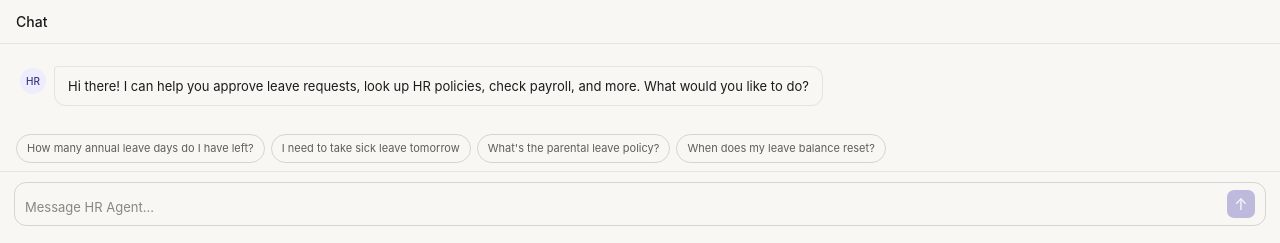
Test: ChatPage › clicking a suggestion populates the textarea
Click the button "How many annual leave days do I have left?": (140, 148) [16,134,265,163]
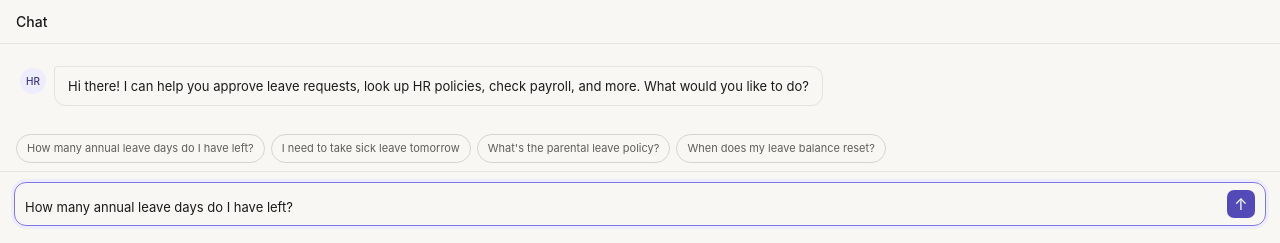
Result: the text box with placeholder "Message HR Agent..." holds "How many annual leave days do I have left?" at [25,198,1219,218]
